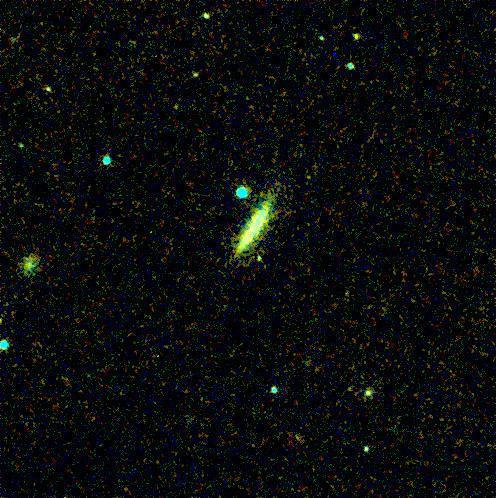star: (247, 248, 277, 278)
